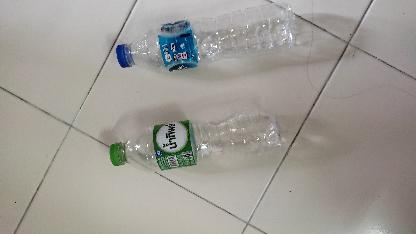Plastic Bottle: (114, 0, 302, 76), (108, 109, 298, 177)
